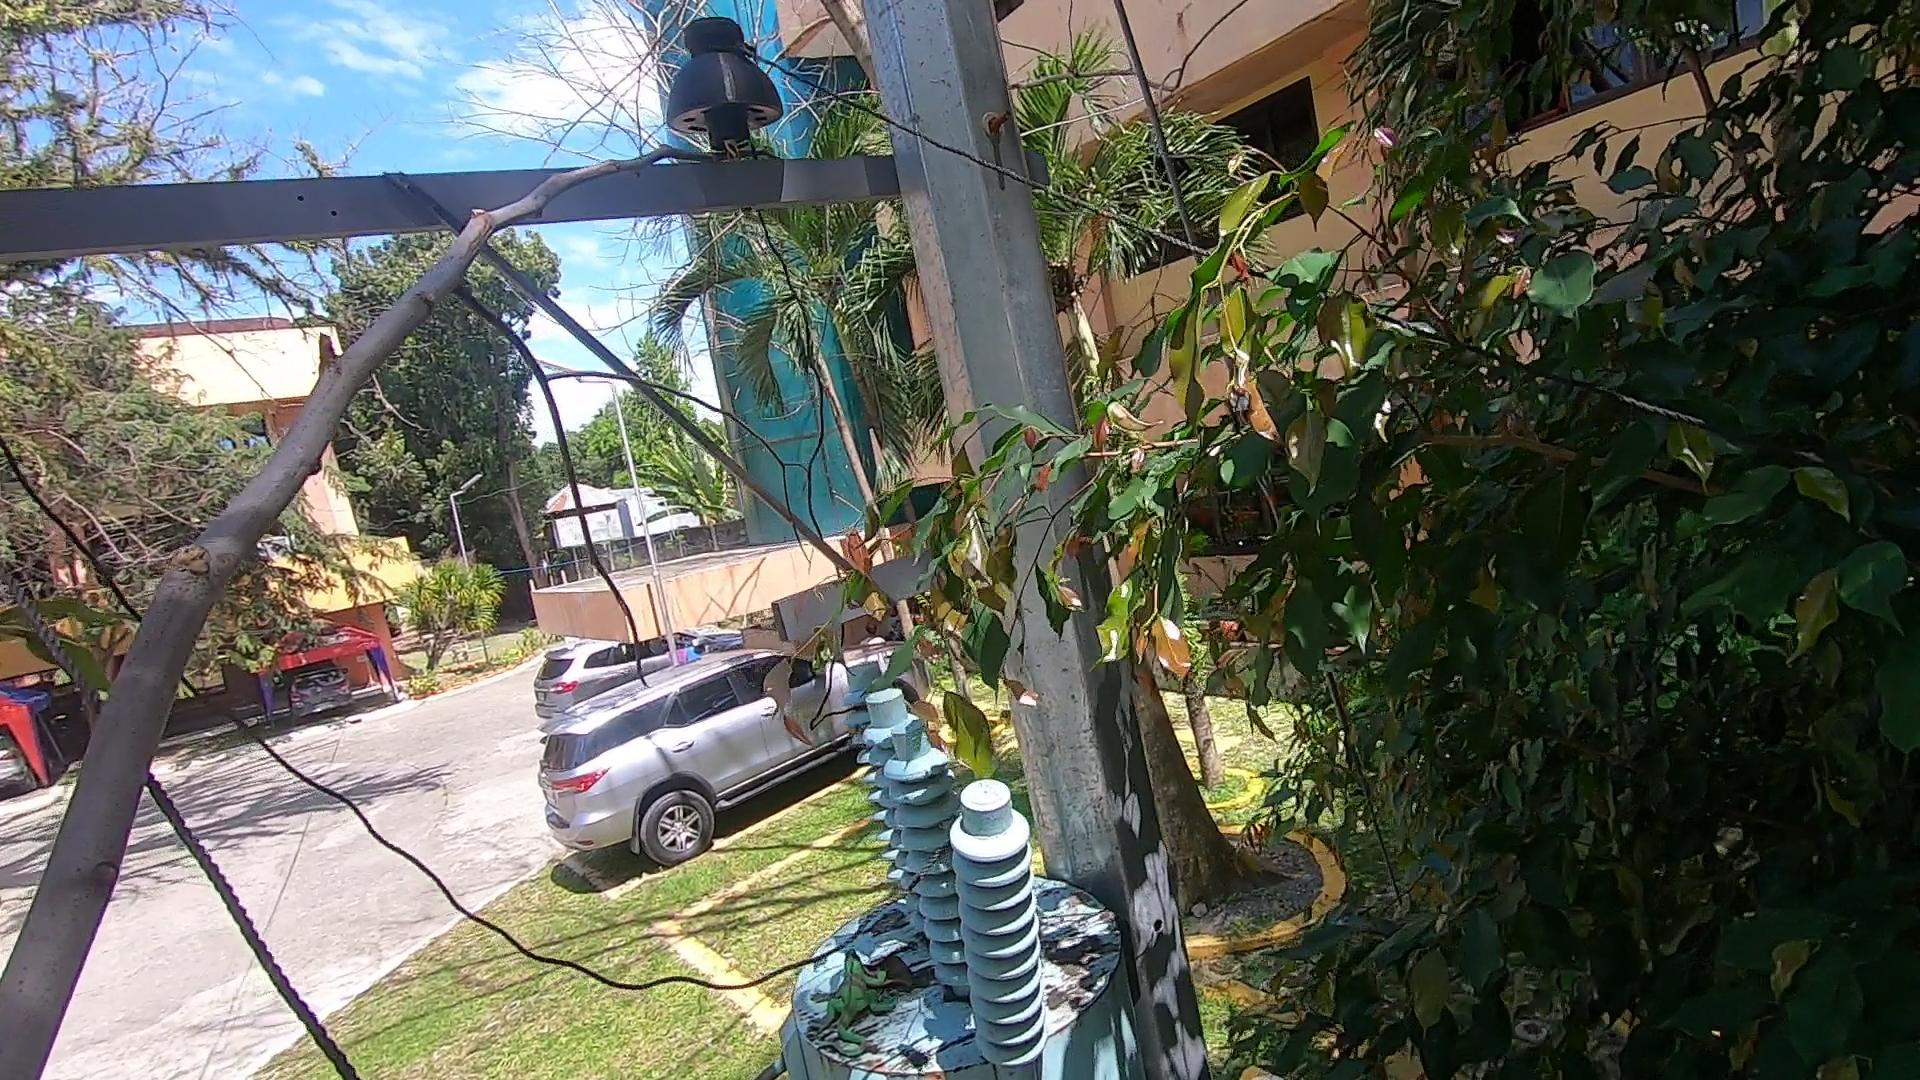branch with leaves: (774, 380, 1166, 820)
leaf: (1033, 907, 1108, 972), (862, 951, 945, 1007)
tree branch: (3, 22, 783, 1054)
